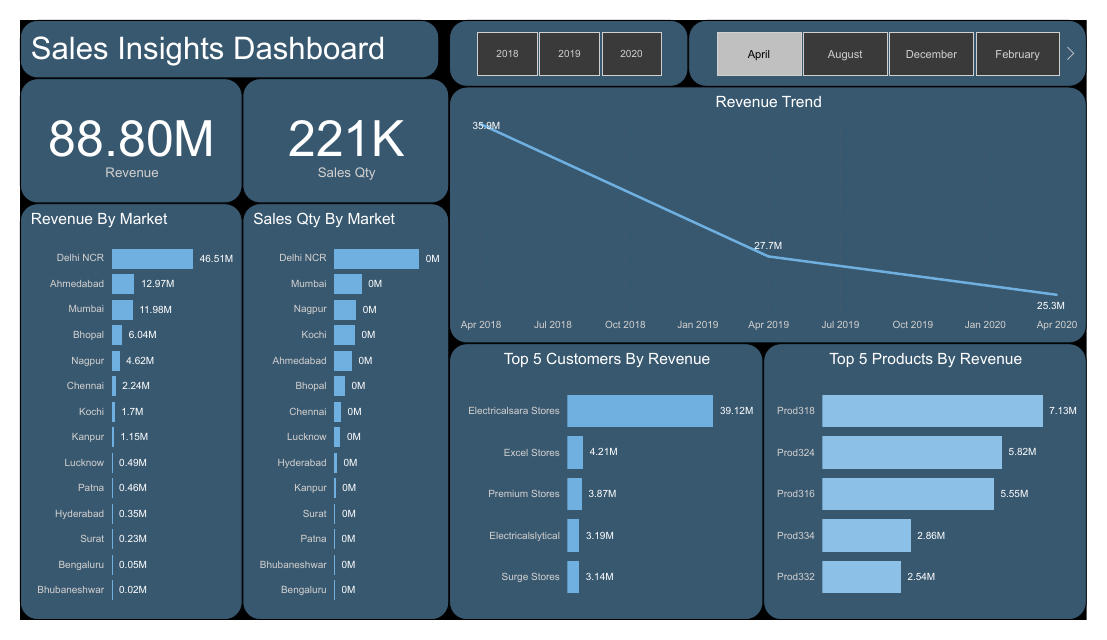

The dashboard page shown, as its layout file describes it:
{"tool":"powerbi","page":{"name":"sales insights dashboard","canvas":[1280,720],"ordinal":0},"visuals":[{"type":"card","fields":{"Values":["BaseMeasure.Revenue"]},"box":[0,69.8,266.5,149.7],"z":0},{"type":"card","fields":{"Values":["BaseMeasure.Sales Qty"]},"box":[266.5,69.8,248,149.7],"z":1000},{"type":"clusteredBarChart","title":"Revenue By Market","fields":{"Y":["BaseMeasure.Revenue"],"Category":["sales markets.markets_name"]},"box":[0,220.2,267,499.6],"z":2000},{"type":"clusteredBarChart","title":"Sales Qty By Market","fields":{"Y":["BaseMeasure.Sales Qty"],"Category":["sales markets.markets_name"]},"box":[267,220.2,247.7,499.6],"z":3000},{"type":"slicer","fields":{"Values":["sales date.year"]},"box":[514.8,0,287.7,79.8],"z":4000},{"type":"slicer","fields":{"Values":["sales date.month_name"]},"box":[802.4,0,477.6,79.8],"z":5000},{"type":"clusteredBarChart","title":"Top 5 Customers By Revenue","fields":{"Y":["BaseMeasure.Revenue"],"Category":["sales customers.custmer_name"]},"box":[514.8,388.1,377.1,331.7],"z":6000},{"type":"clusteredBarChart","title":"Top 5 Products By Revenue","fields":{"Y":["BaseMeasure.Revenue"],"Category":["sales transactions.product_code"]},"box":[891.9,388.1,388.1,331.7],"z":7000},{"type":"lineChart","title":"Revenue Trend","fields":{"Y":["BaseMeasure.Revenue"],"Category":["sales date.cy_date"]},"box":[514.8,79.8,765.2,308.3],"z":8000},{"type":"textbox","box":[0,0,503.2,69.8],"z":9000}]}

Visuals, with their boxes in screenshot pixels (x1, y1, x2, y2), scaled from the page's 1280x720 canvas onto the 1107x640 screenshot:
card - BaseMeasure.Revenue: [x1=0, y1=62, x2=230, y2=195]
card - BaseMeasure.Sales Qty: [x1=230, y1=62, x2=445, y2=195]
"Revenue By Market" clusteredBarChart: [x1=0, y1=196, x2=231, y2=639]
"Sales Qty By Market" clusteredBarChart: [x1=231, y1=196, x2=445, y2=639]
slicer - sales date.year: [x1=445, y1=0, x2=694, y2=71]
slicer - sales date.month_name: [x1=694, y1=0, x2=1106, y2=71]
"Top 5 Customers By Revenue" clusteredBarChart: [x1=445, y1=345, x2=771, y2=639]
"Top 5 Products By Revenue" clusteredBarChart: [x1=771, y1=345, x2=1106, y2=639]
"Revenue Trend" lineChart: [x1=445, y1=71, x2=1106, y2=345]
textbox: [x1=0, y1=0, x2=435, y2=62]
